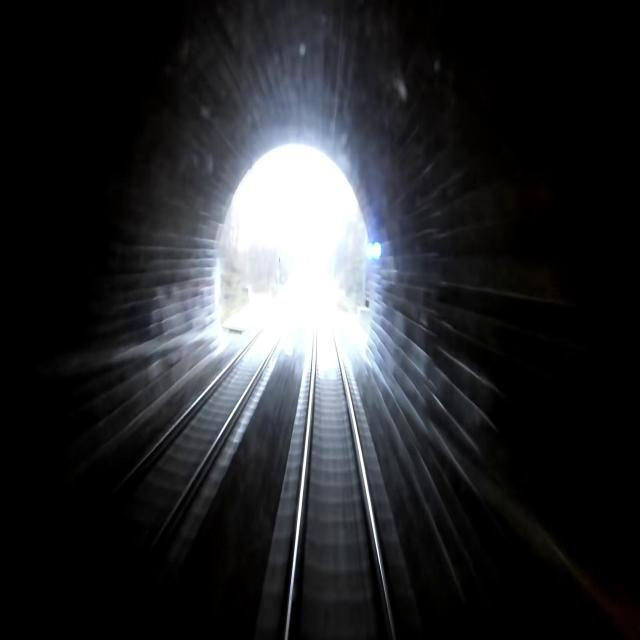rail-track: (116, 327, 278, 544), (289, 328, 392, 639)
